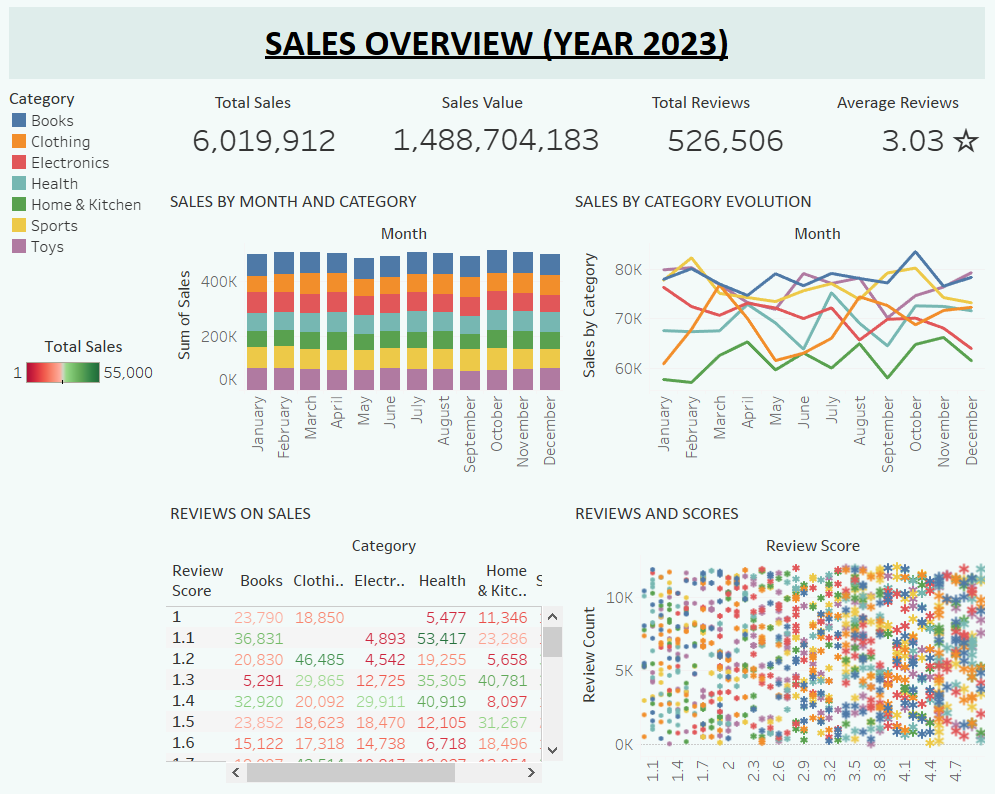

The page's visual inventory and layout, read from the dashboard file:
{"tool":"tableau","page":{"name":"Dashboard 1","canvas":[1000,800],"ordinal":0},"visuals":[{"type":"title","box":[8,8,984,80]},{"type":"legend","title":"lines","param":"[federated.1b21nsy0jft0u11c50w2b16cej06 (copia)].[none:category:nk]","box":[8,88,157,248]},{"type":"worksheet","title":"Total Sales","mark":"Automatic","box":[165,88,196,99]},{"type":"worksheet","title":"Sales Value","mark":"Automatic","box":[361,88,252,99]},{"type":"worksheet","title":"Total Reviews","mark":"Automatic","box":[613,88,197,99]},{"type":"worksheet","title":"Average Review","mark":"Automatic","box":[810,88,182,99]},{"type":"worksheet","title":" Stacked Bars","mark":"Bar","rows":["Valores de campo de tabla dinámica"],"cols":["Nombres de campo de tabla dinámica"],"box":[165,187,405,312]},{"type":"worksheet","title":"lines","mark":"Automatic","rows":["Valores de campo de tabla dinámica"],"cols":["Nombres de campo de tabla dinámica"],"box":[570,187,422,312]},{"type":"legend","title":"heatmap","param":"[federated.1b21nsy0jft0u11c50w2b16cej06 (copia)].[sum:Valores de campo de tabla ","box":[8,336,157,74]},{"type":"worksheet","title":"heatmap","mark":"Automatic","rows":["review_score"],"cols":["category"],"box":[165,499,405,293]},{"type":"worksheet","title":"Scatter","mark":"Shape","rows":["review_count"],"cols":["review_score"],"box":[570,499,422,293]}]}

Visuals, with their boxes in screenshot pixels (x1, y1, x2, y2), scaled from the page's 1000x800 canvas onto the 995x794 screenshot:
title: region(8, 8, 987, 87)
"lines" legend: region(8, 87, 164, 333)
"Total Sales" worksheet: region(164, 87, 359, 186)
"Sales Value" worksheet: region(359, 87, 610, 186)
"Total Reviews" worksheet: region(610, 87, 806, 186)
"Average Review" worksheet: region(806, 87, 987, 186)
" Stacked Bars" worksheet (Bar marks): region(164, 186, 567, 495)
"lines" worksheet: region(567, 186, 987, 495)
"heatmap" legend: region(8, 333, 164, 407)
"heatmap" worksheet: region(164, 495, 567, 786)
"Scatter" worksheet (Shape marks): region(567, 495, 987, 786)
